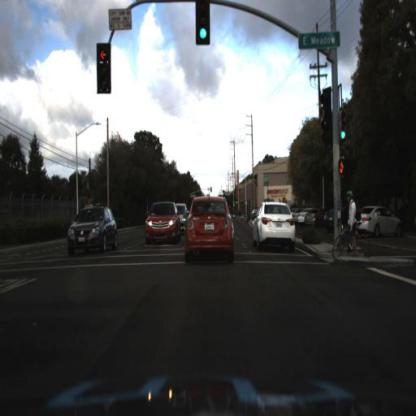biker: (332, 192, 366, 260)
car: (186, 197, 235, 263), (66, 202, 120, 257), (254, 200, 298, 253), (143, 201, 181, 250), (358, 207, 405, 240), (172, 198, 191, 239), (323, 204, 347, 235), (304, 207, 324, 231)
trafficLight: (197, 1, 212, 46), (340, 110, 350, 143)
trafficLight-RedLeft: (97, 43, 112, 96)
